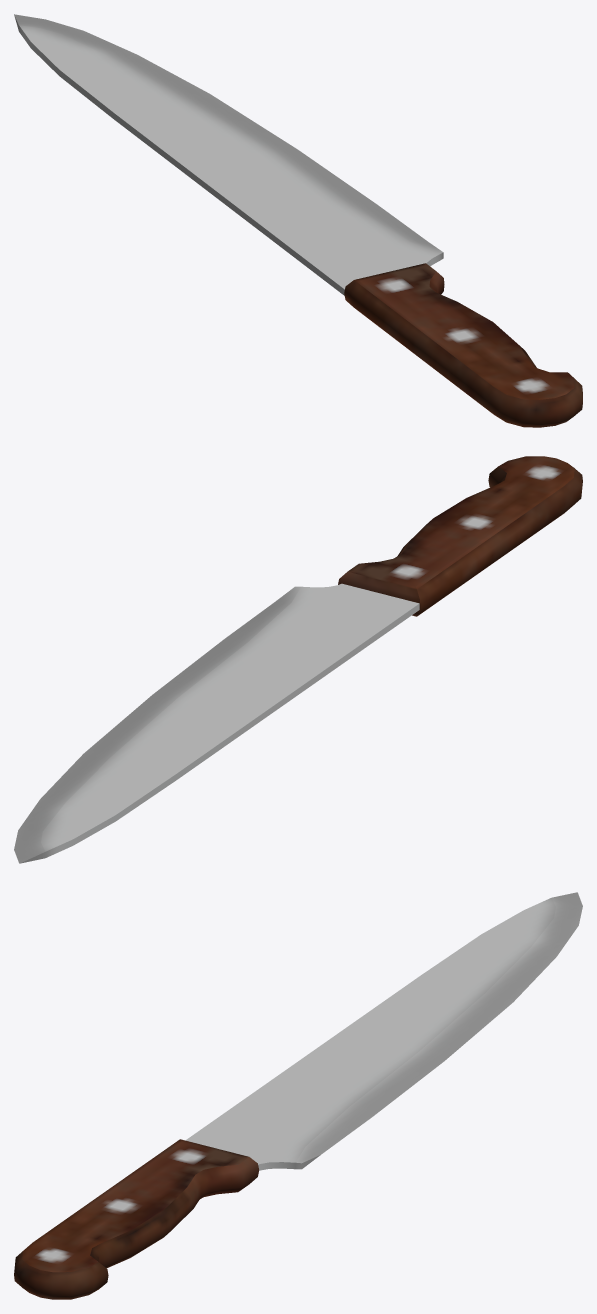
The model's file is Prop_Kitchen_Knife_x2.fbx.
The picture shows the model from 3 angles, top to bottom: view 1: azimuth 30°, elevation 25°; view 2: azimuth 150°, elevation 25°; view 3: azimuth 330°, elevation 25°; orthographic projection.
Visible parts, largest first — view 1: Prop_Kitchen_Knife_x2; view 2: Prop_Kitchen_Knife_x2; view 3: Prop_Kitchen_Knife_x2.
Boxes of the visible parts, bbox=[...] form: Prop_Kitchen_Knife_x2: bbox=[14, 14, 582, 427]; Prop_Kitchen_Knife_x2: bbox=[14, 456, 582, 863]; Prop_Kitchen_Knife_x2: bbox=[14, 892, 582, 1299].
Bounding box in the file's own units: 2.74 × 0.6037 × 21.54.
